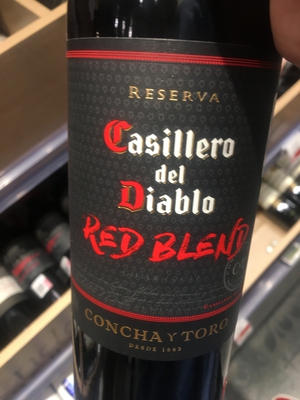casillero del diablo red blend: (55, 9, 277, 400)
